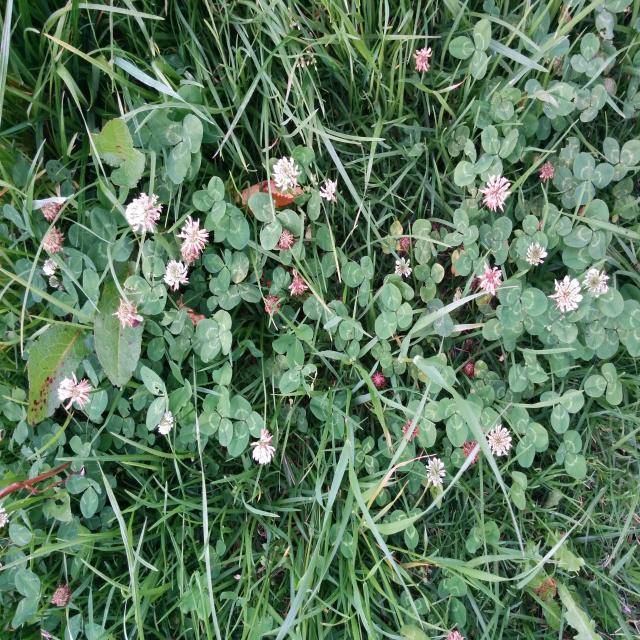Four Leaf Clover: (195, 309, 232, 363)
